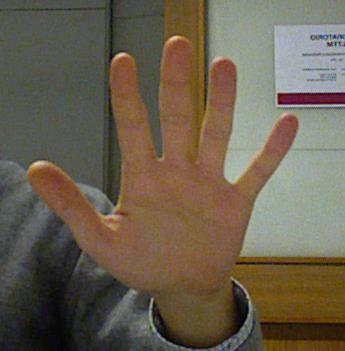down: (27, 34, 299, 295)
